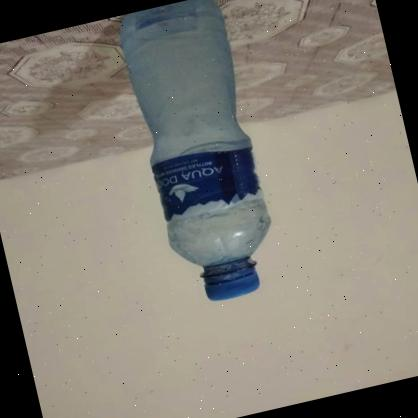bottle: (114, 0, 286, 309)
cap: (200, 266, 263, 304)
label: (150, 140, 266, 224)
